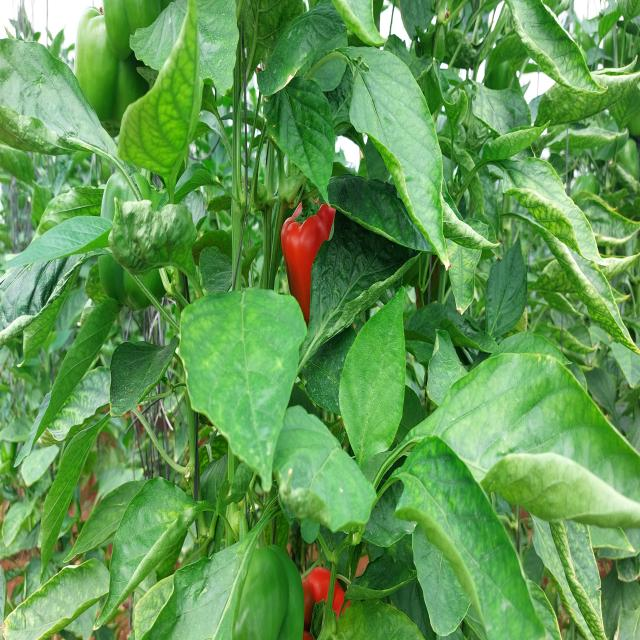Red-Ready-to-Harvest: (278, 199, 342, 310)
